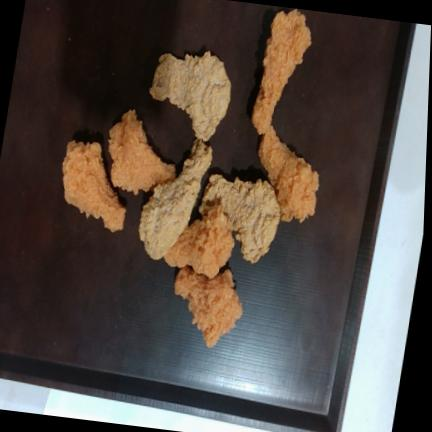chicken: (139, 139, 212, 258), (149, 50, 231, 141), (252, 9, 311, 134), (199, 174, 280, 262), (258, 125, 319, 222), (62, 140, 125, 231), (108, 109, 175, 194), (174, 266, 242, 347), (163, 204, 234, 278)
